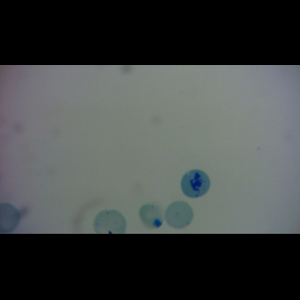aggregate reticulocyte: (179, 169, 212, 199)
erythrocyte: (137, 202, 166, 231)
punctate reticulocyte: (163, 199, 195, 230)
